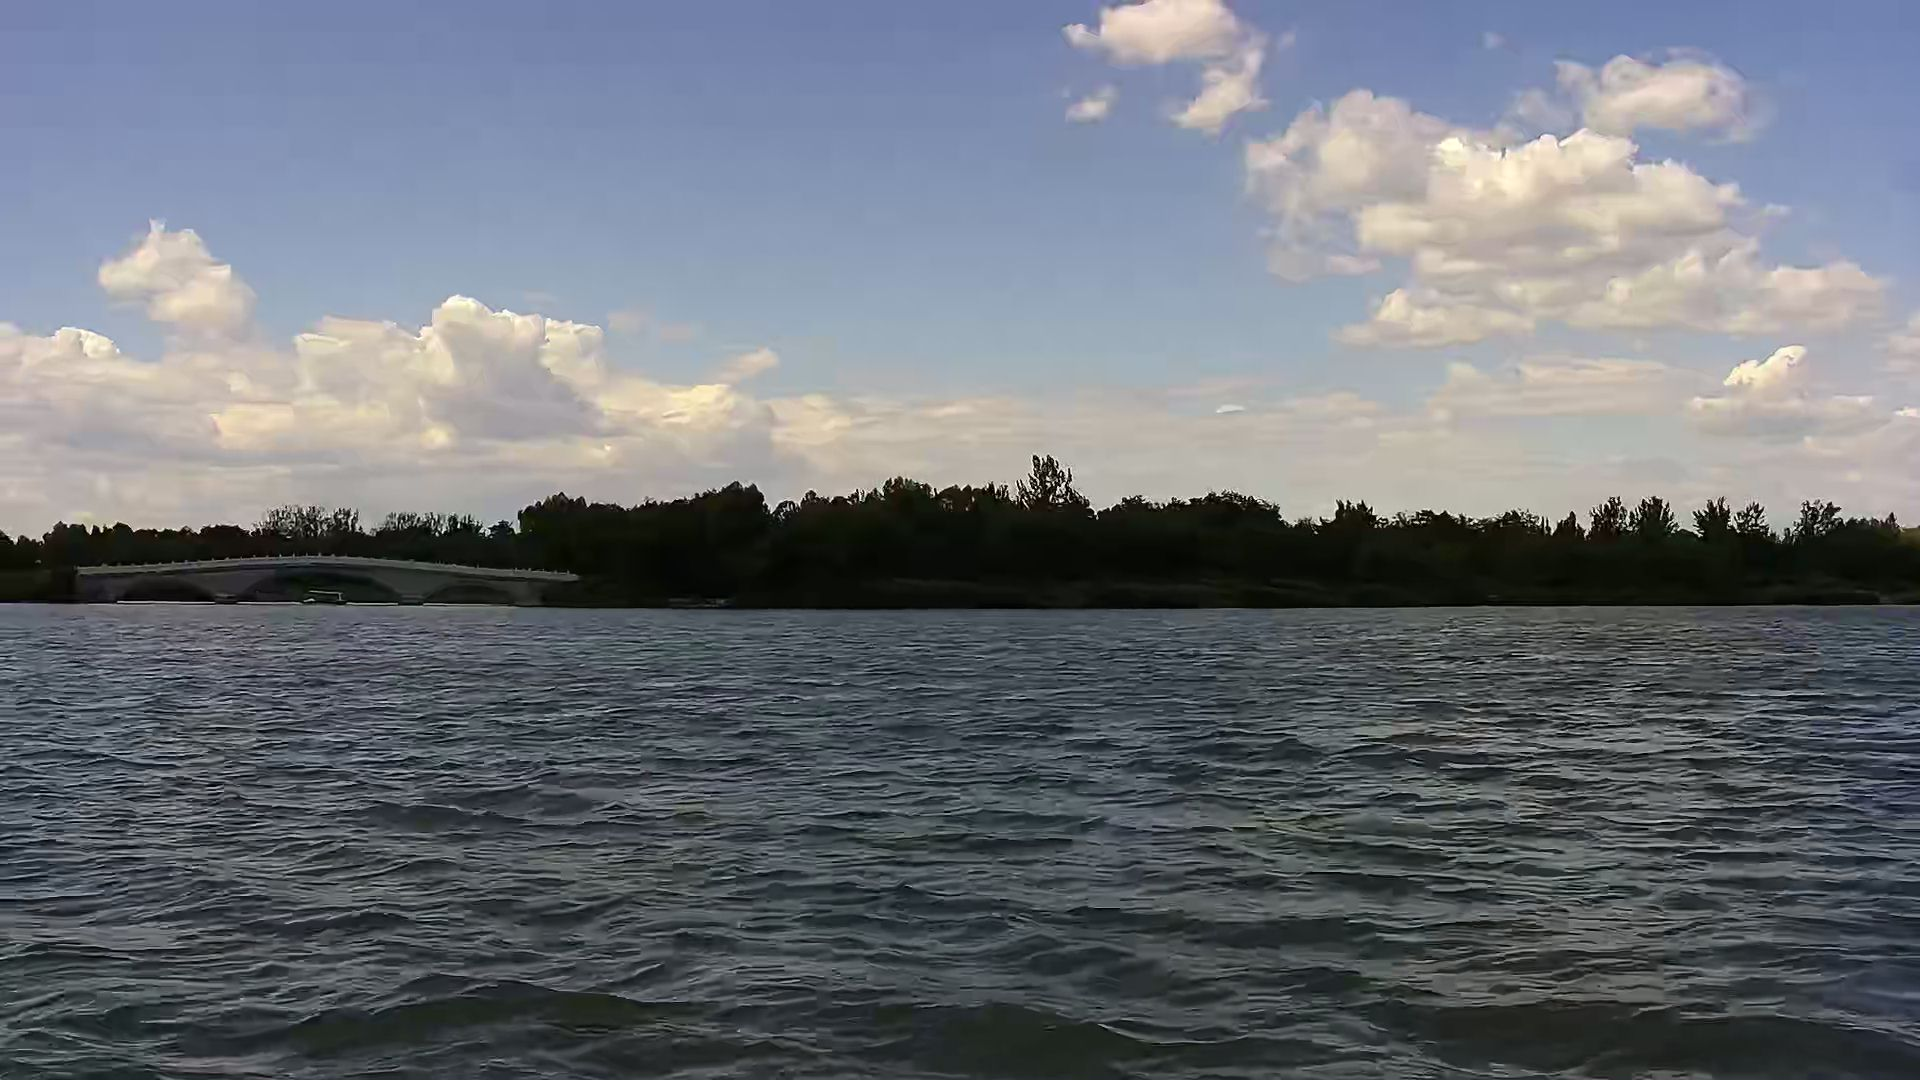boat: (294, 589, 352, 611)
bridge: (74, 546, 585, 612)
